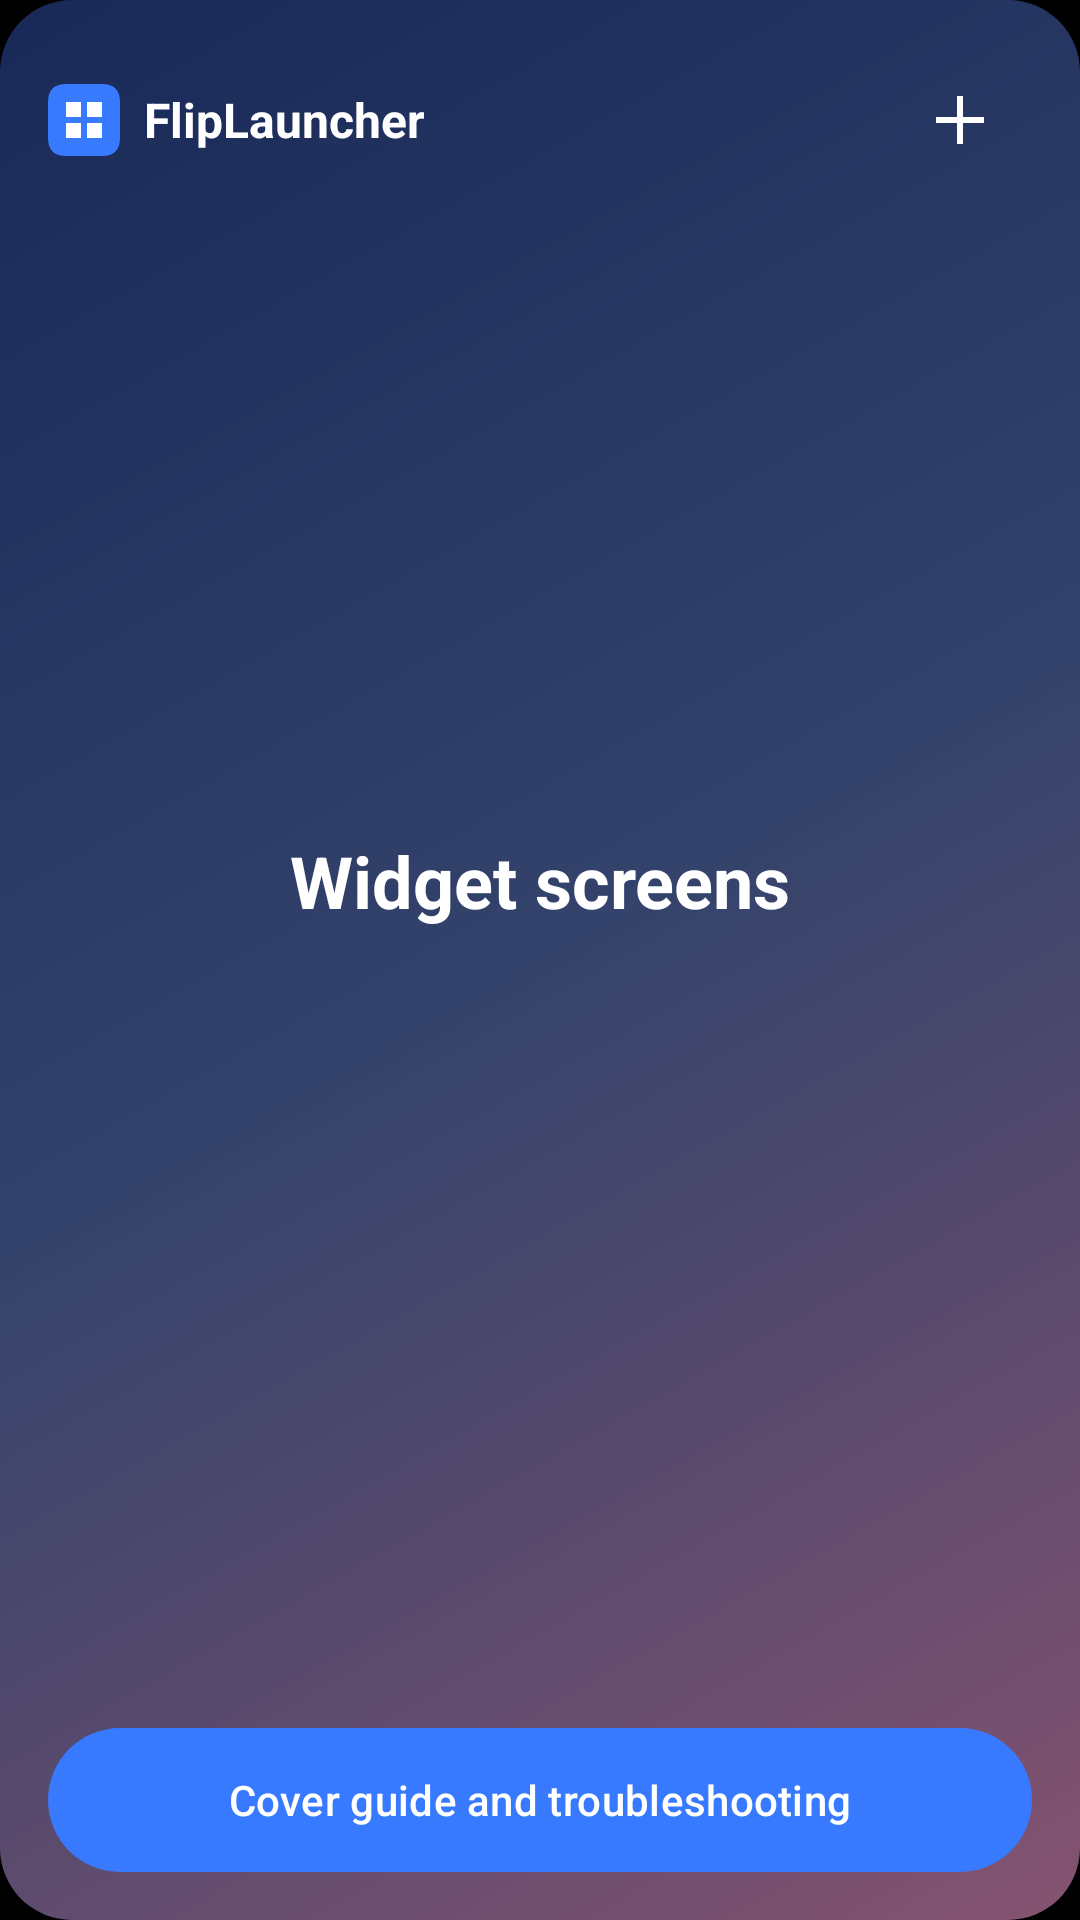

Point at icon controls on the screen. Image size 1080*1920, points as (x=x, y=y).
widget mark: (x=84, y=120)
